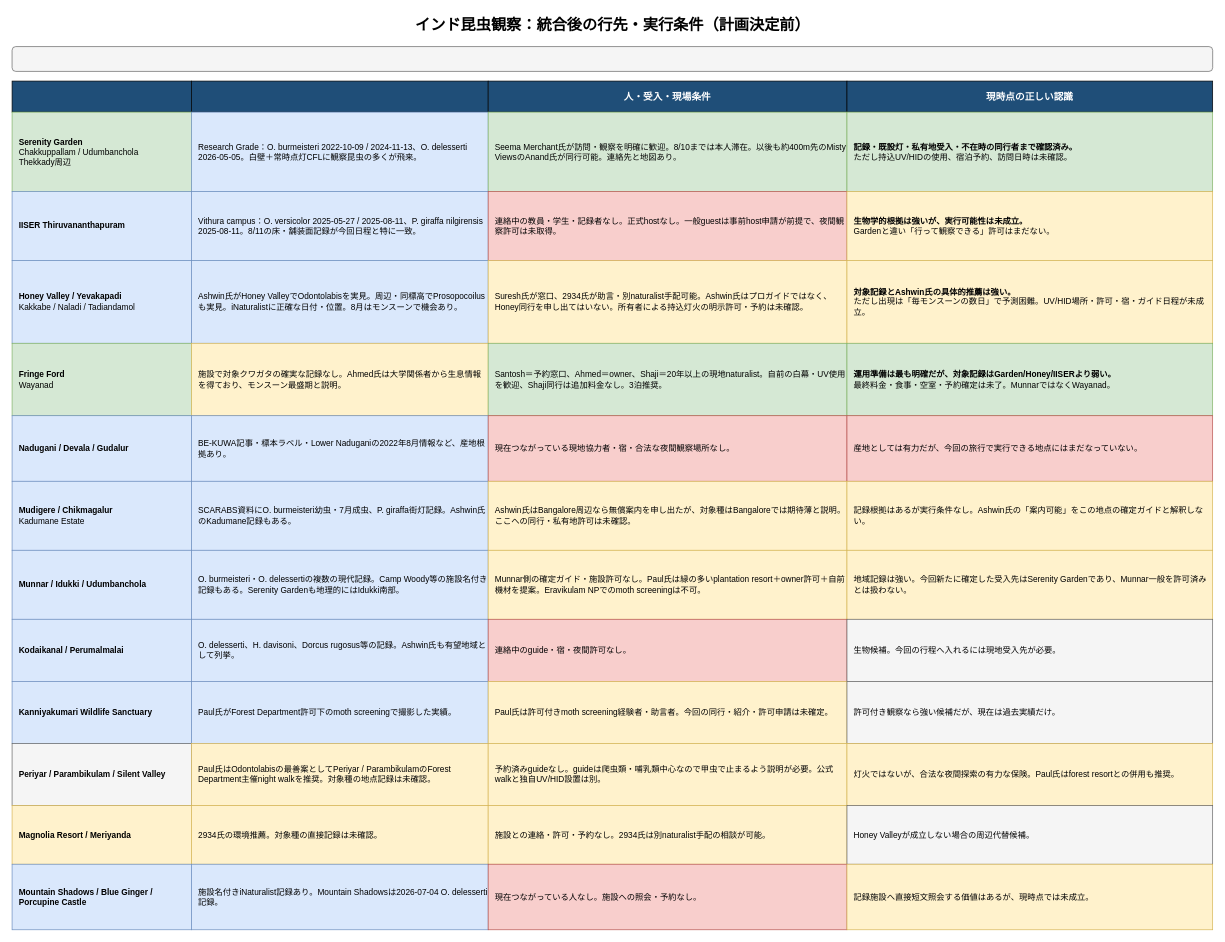
This 1225x942 diagram has some shape labels left out. Here are the shapes that lost their labels. From the top down, the box of each, then its label:
(11, 46, 1213, 71): 青＝対象昆虫の記録根拠あり 緑＝現地の受入・観察方法まで確認 黄＝一部確認 赤＝実行条件なし 灰＝参考候補
(11, 80, 191, 112): 行先
(191, 80, 488, 112): 観察記録・根拠
